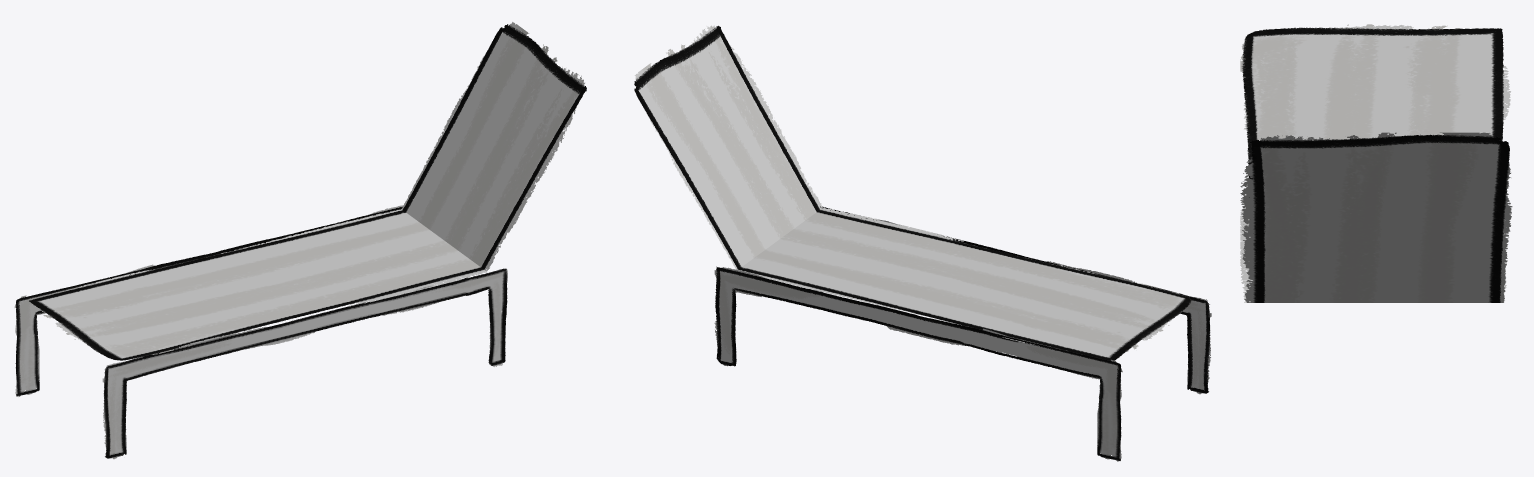
File: MSH_Transat.fbx
3 views of the same model, side by side, from view 1: azimuth 30°, elevation 25°; view 2: azimuth 150°, elevation 25°; view 3: azimuth 270°, elevation 25° (orthographic). The views are drawn at different scales.
Visible parts, largest first — view 1: MSH_Transat; view 2: MSH_Transat; view 3: MSH_Transat.
Boxes of the visible parts, left/top/right/bottom form: MSH_Transat: left=14, top=22, right=586, bottom=459; MSH_Transat: left=634, top=25, right=1211, bottom=461; MSH_Transat: left=1240, top=24, right=1512, bottom=302.
Bounding box in the file's own units: 2.1 × 1.06 × 0.6849.
1 material, 1 textured.
